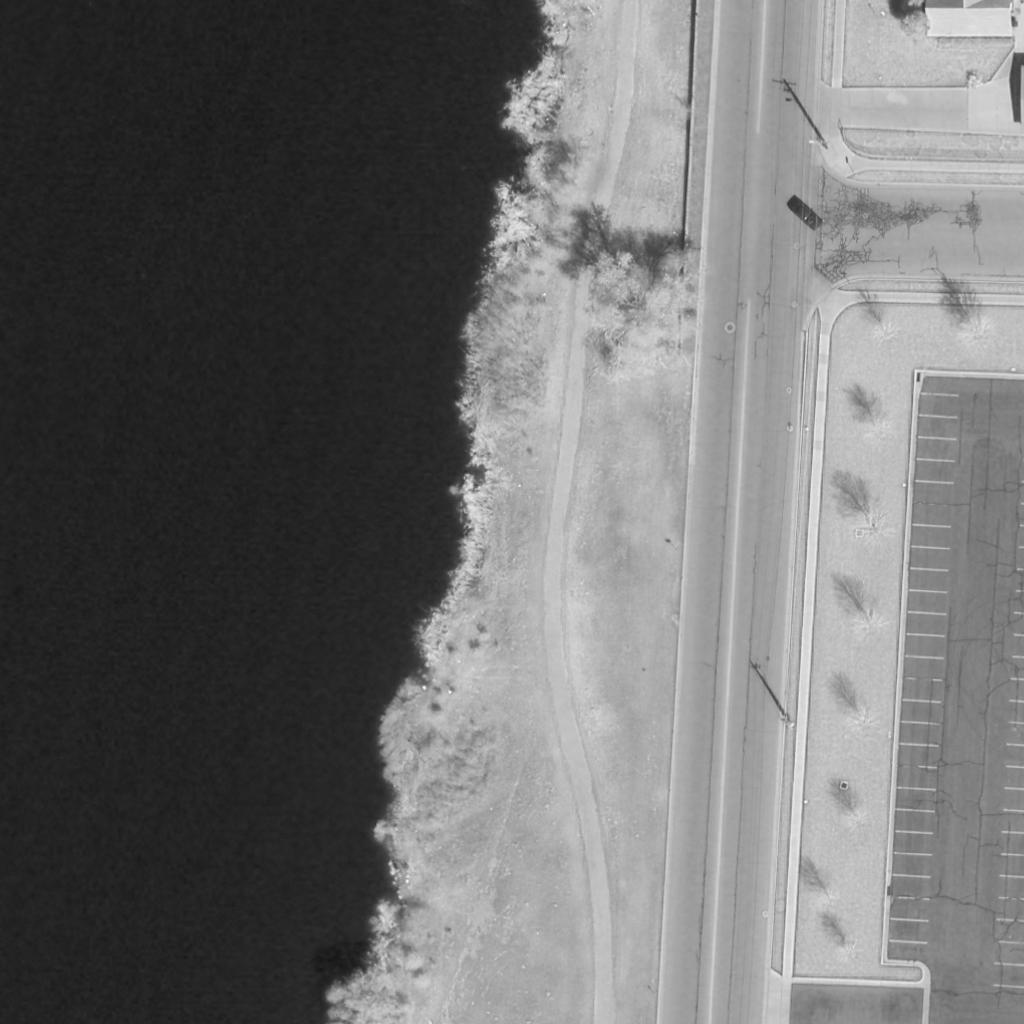vehicle: (785, 193, 823, 231)
